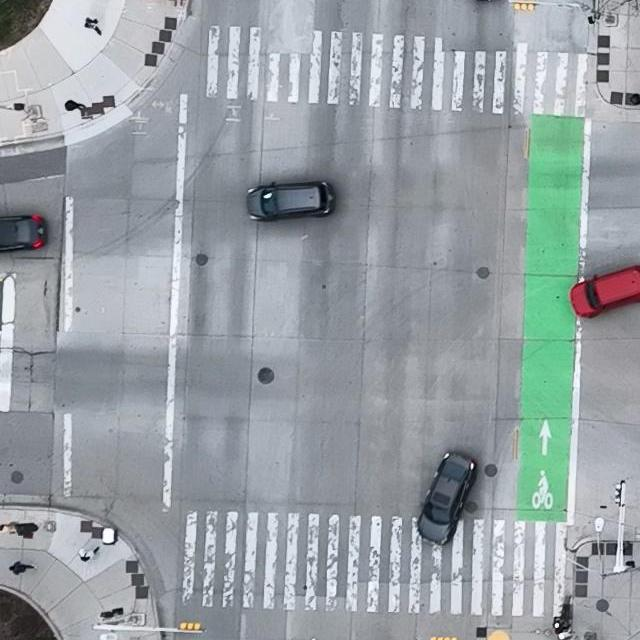car: (417, 451, 478, 546), (246, 180, 337, 221), (570, 265, 640, 318), (0, 214, 48, 253)
